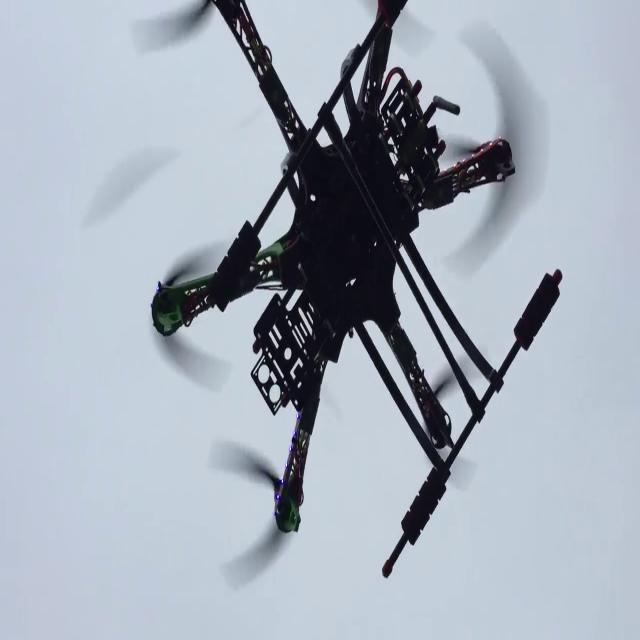drone: (115, 1, 564, 576)
